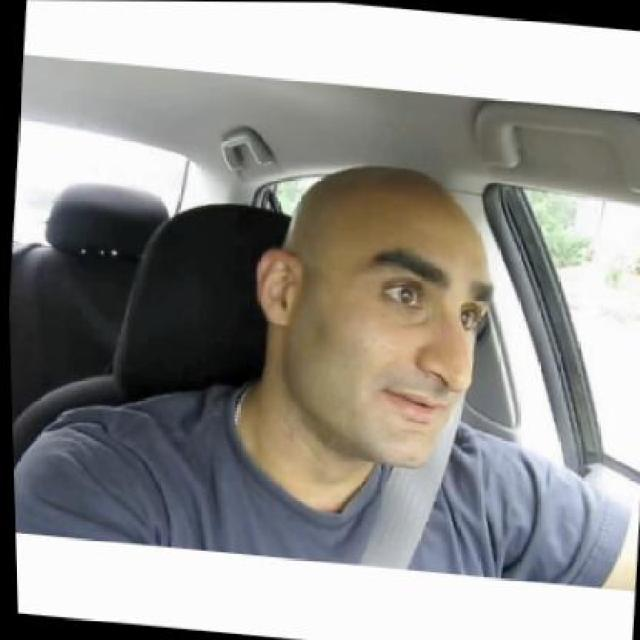attentif: (240, 154, 502, 474)
